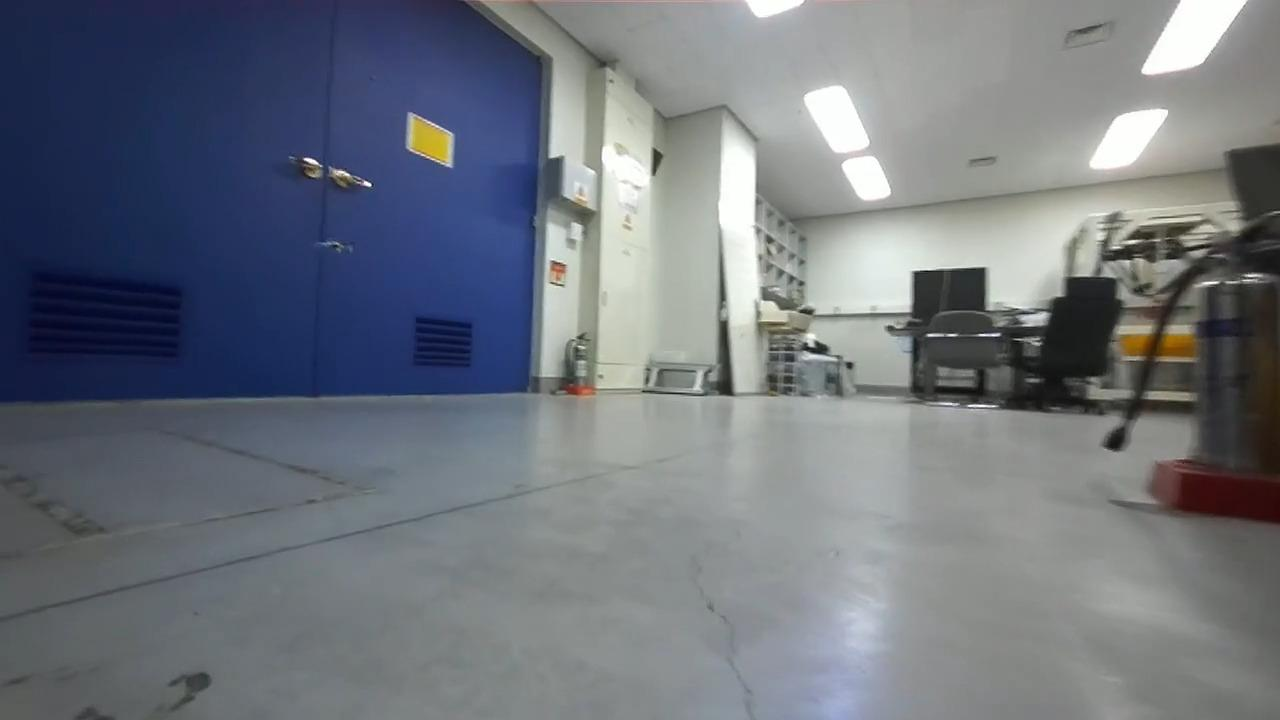crazyflie: (309, 235, 357, 256)
